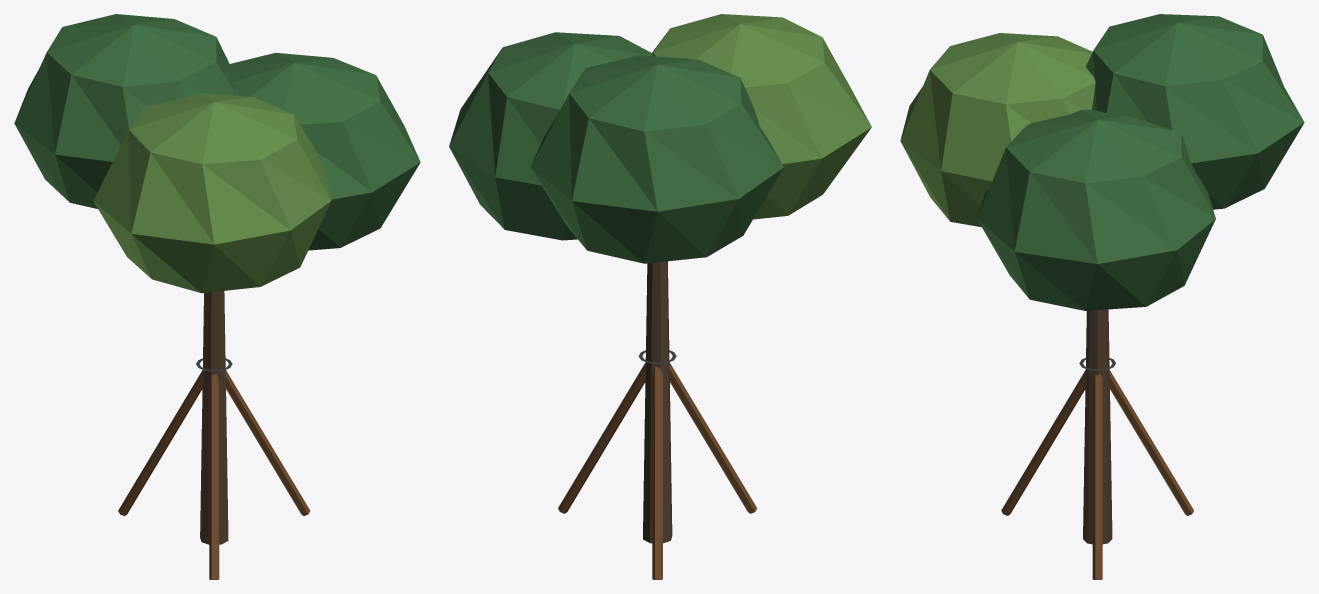
File: tree_supported_young.glb
3 views of the same model, side by side, from view 1: azimuth 30°, elevation 25°; view 2: azimuth 150°, elevation 25°; view 3: azimuth 270°, elevation 25° (orthographic). The views are drawn at different scales.
Parts seen in each view (by area): view 1: tree_supported_young; view 2: tree_supported_young; view 3: tree_supported_young.
Part boxes in pixels (x1,y1,x2,y2): tree_supported_young: [14, 14, 420, 579]; tree_supported_young: [449, 14, 871, 579]; tree_supported_young: [900, 14, 1304, 579].
Size of the model in its own units: 4.21 by 5.94 by 4.38.
